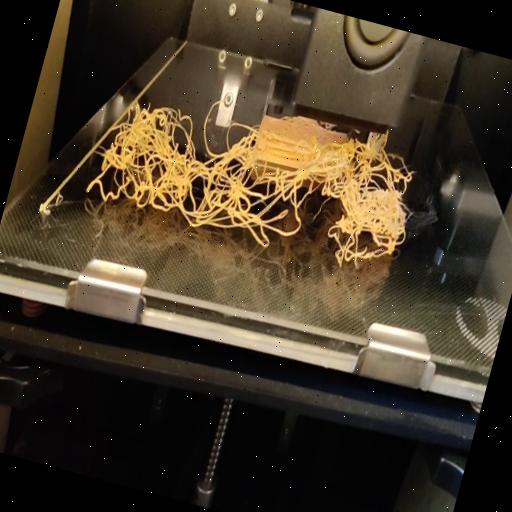spaghetti: (84, 63, 432, 280)
